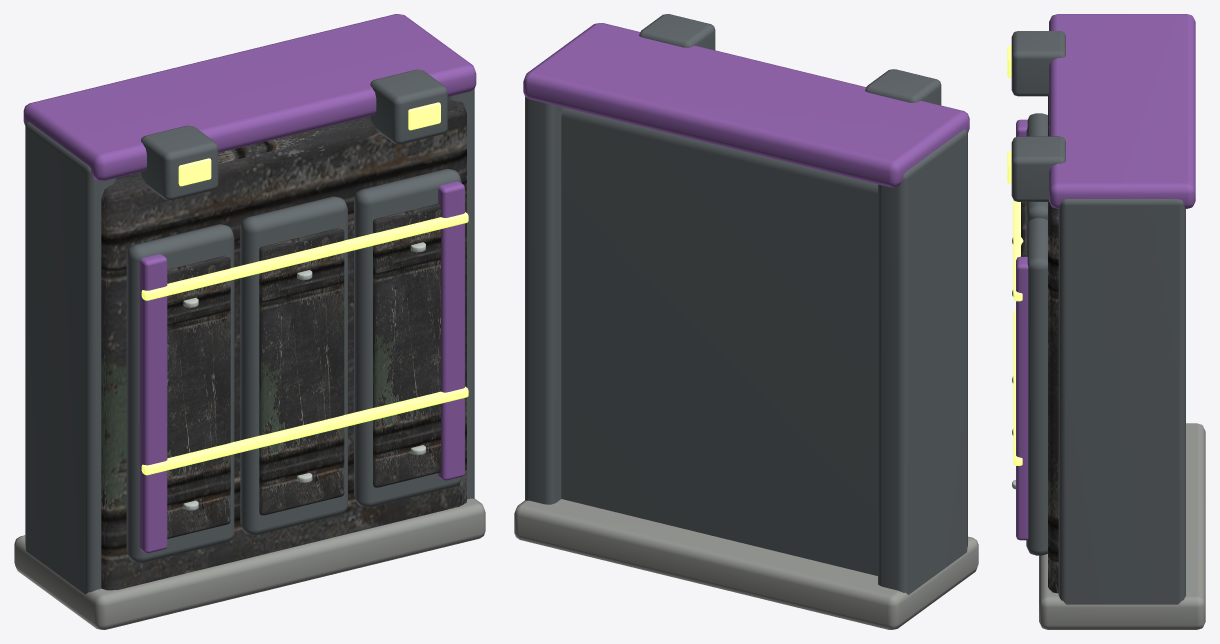
Rendered from wall_l05-2.glb.
The picture shows the model from 3 angles, left to right: view 1: azimuth 30°, elevation 25°; view 2: azimuth 150°, elevation 25°; view 3: azimuth 270°, elevation 25°; orthographic projection. The views are drawn at different scales.
Parts seen in each view (by area): view 1: DZN_wall_L05; view 2: DZN_wall_L05; view 3: DZN_wall_L05.
Boxes of the visible parts, left/top/right/bottom form: DZN_wall_L05: left=14, top=14, right=485, bottom=629; DZN_wall_L05: left=514, top=14, right=978, bottom=629; DZN_wall_L05: left=1007, top=14, right=1205, bottom=629.
Size of the model in its own units: 1.94 by 2.27 by 0.905.
Materials: 6 (1 with a texture image).
